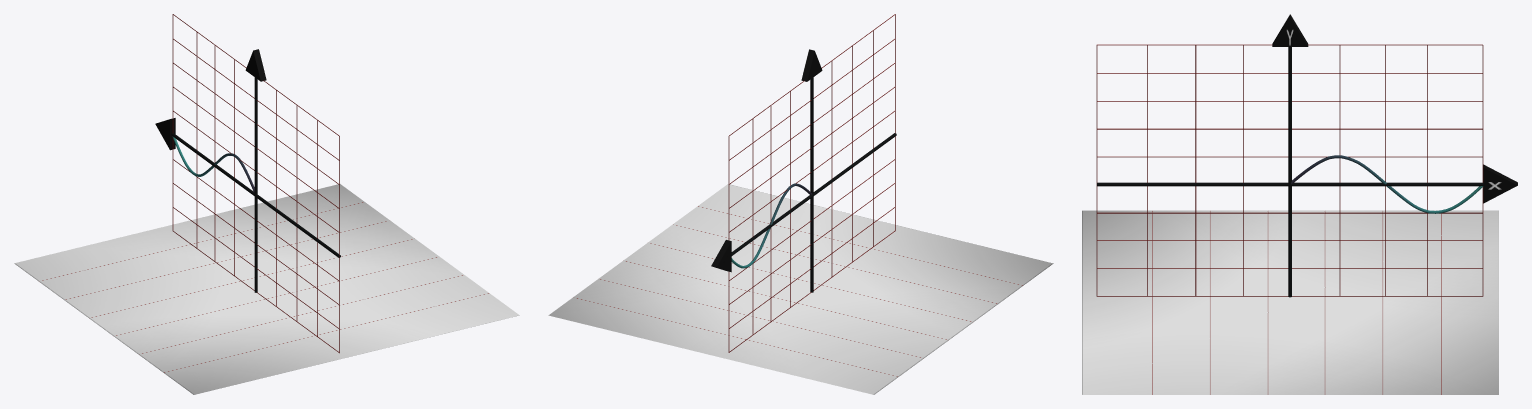
Rendered from y=sin(x+k) mayor.fbx.
3 views of the same model, side by side, from view 1: azimuth 30°, elevation 25°; view 2: azimuth 150°, elevation 25°; view 3: azimuth 270°, elevation 25° (orthographic). The views are drawn at different scales.
Visible parts, largest first — view 1: senoidal:plane:pPlane1, senoidal:pCylinder37, senoidal:pCylinder36; view 2: senoidal:plane:pPlane1, senoidal:pCylinder37, senoidal:pCylinder36, senoidal:nueva_flecha_x:polySurface1; view 3: senoidal:plane:pPlane1, senoidal:pCylinder36, senoidal:pCylinder37, senoidal:senoidal1:Mesh, senoidal:nueva_flecha_x:polySurface1, senoidal:pCylinder5, senoidal:pCylinder10, senoidal:pCylinder7, senoidal:pCylinder1, senoidal:Nueva_flecha_y:polySurface1, pCylinder37, pCylinder31 (+7 smaller).
Boxes of the visible parts, box(x1,y1,x2,y2) form: senoidal:plane:pPlane1: box(14, 184, 519, 394); senoidal:pCylinder37: box(254, 77, 257, 292); senoidal:pCylinder36: box(171, 133, 340, 257); senoidal:plane:pPlane1: box(548, 184, 1053, 394); senoidal:pCylinder37: box(810, 77, 813, 292); senoidal:pCylinder36: box(731, 133, 896, 255); senoidal:nueva_flecha_x:polySurface1: box(711, 240, 731, 272); senoidal:plane:pPlane1: box(1082, 210, 1498, 394); senoidal:pCylinder36: box(1097, 182, 1483, 186); senoidal:pCylinder37: box(1288, 47, 1291, 297); senoidal:senoidal1:Mesh: box(1291, 155, 1483, 213); senoidal:nueva_flecha_x:polySurface1: box(1483, 164, 1517, 203); senoidal:pCylinder5: box(1097, 128, 1482, 129); senoidal:pCylinder10: box(1097, 212, 1482, 213); senoidal:pCylinder7: box(1097, 156, 1482, 157); senoidal:pCylinder1: box(1097, 44, 1482, 45); senoidal:Nueva_flecha_y:polySurface1: box(1272, 14, 1308, 46); pCylinder37: box(1096, 45, 1097, 295); pCylinder31: box(1195, 45, 1196, 296).
Bounding box in the file's own units: 56.75 × 40.3 × 56.68.
